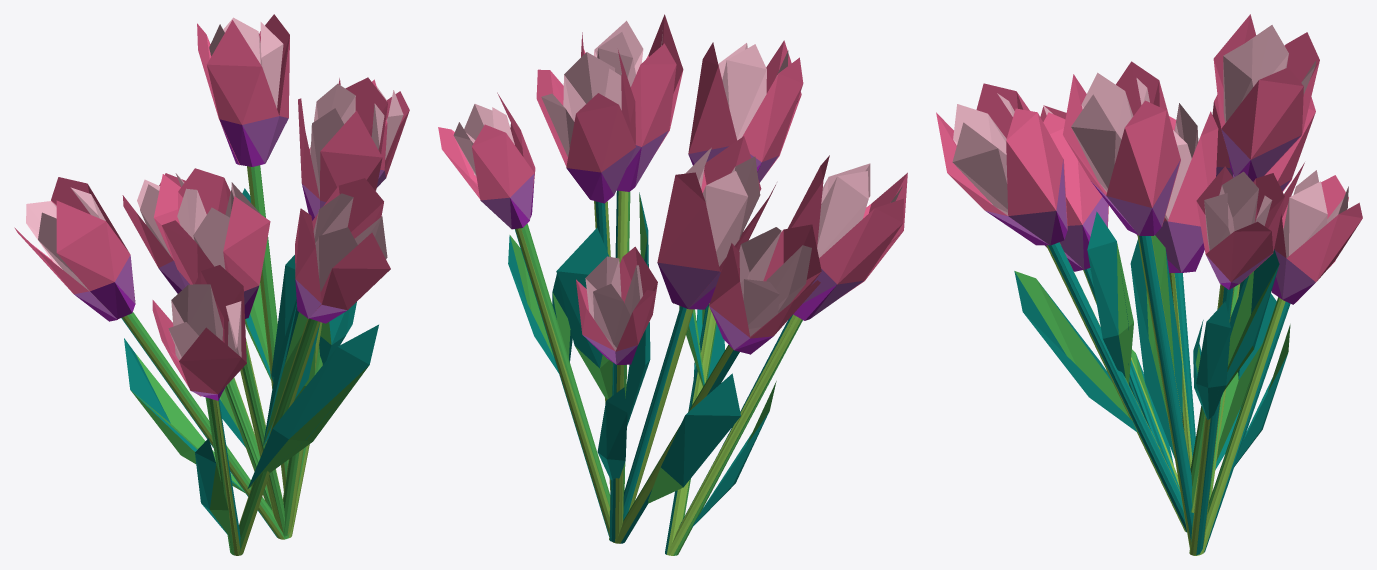
File: flora2_tulip3.glb
3 views of the same model, side by side, from view 1: azimuth 30°, elevation 25°; view 2: azimuth 150°, elevation 25°; view 3: azimuth 270°, elevation 25° (orthographic). The views are drawn at different scales.
Visible parts, largest first — view 1: group1524081558; view 2: group1524081558; view 3: group1524081558.
Part boxes in pixels (bbox=[...]): group1524081558: bbox=[14, 14, 409, 555]; group1524081558: bbox=[438, 14, 907, 555]; group1524081558: bbox=[936, 14, 1362, 555].
Size of the model in its own units: 0.9708 by 1.25 by 0.9118.
1 material, 1 textured.
